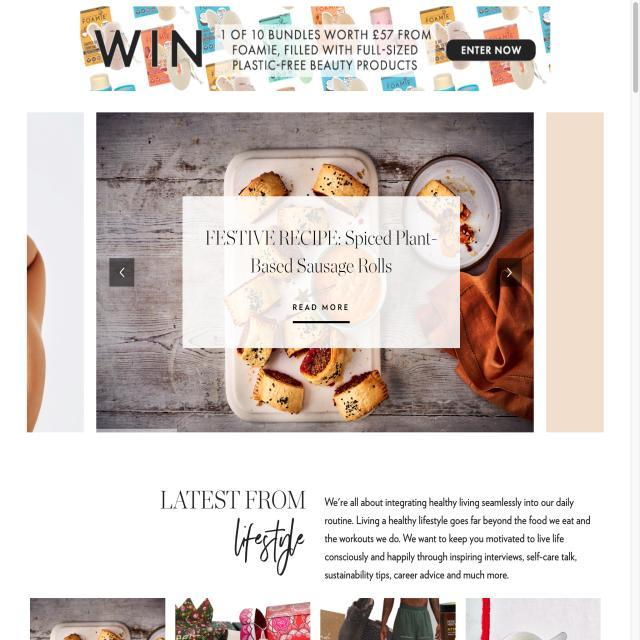button: (446, 36, 538, 64)
